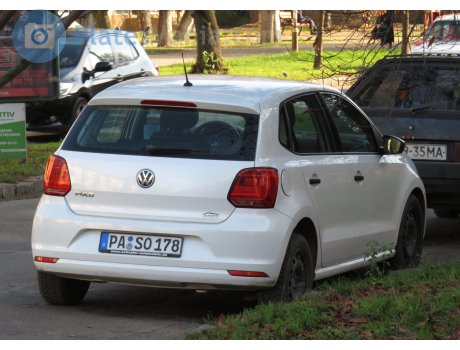License Plates: (111, 233, 175, 247)
